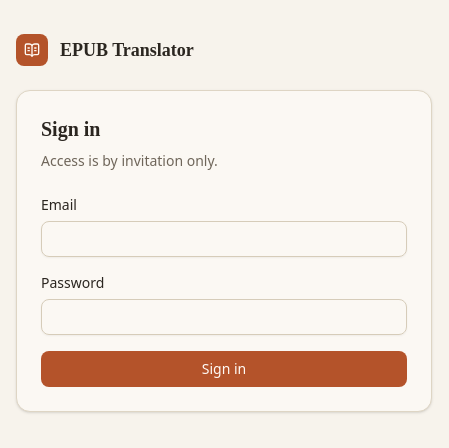
Test case: sign-in › shows a generic error on bad credentials
The width and height of the screenshot is (449, 448).
Type "me@example.com" into the field labelled "Email".
click(224, 239); type("me@example.com")  # box [41,221,407,257]
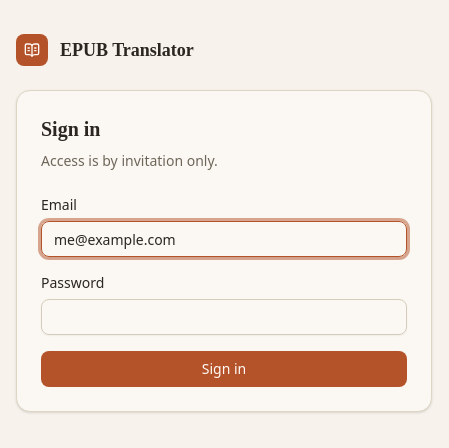
Type "wrong" into the password field labelled "Password".
click(224, 317); type("wrong")  # box [41,299,407,335]
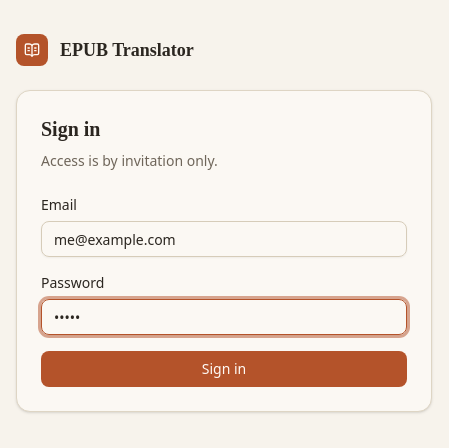
Click the button "Sign in".
click(224, 369)  # box [41,351,407,387]
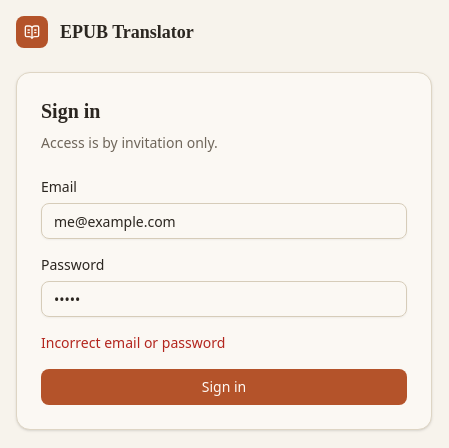
Now the message reads "Incorrect email or password", box [41,333,225,352]
